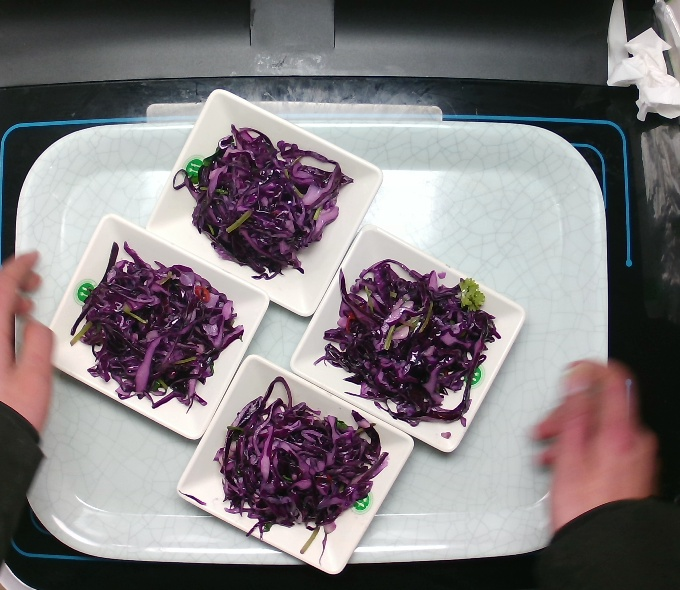wcq-ZiGanLan: (174, 372, 391, 570), (309, 252, 505, 443), (62, 235, 249, 417), (167, 119, 358, 285)
